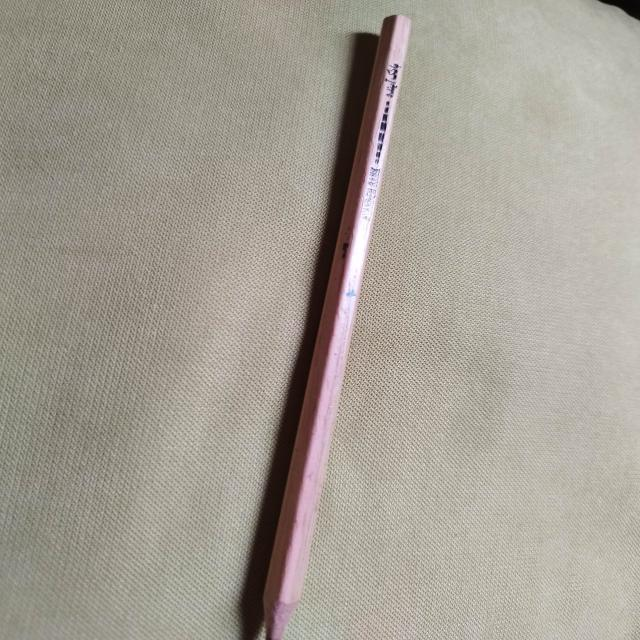pencil: (260, 13, 412, 640)
